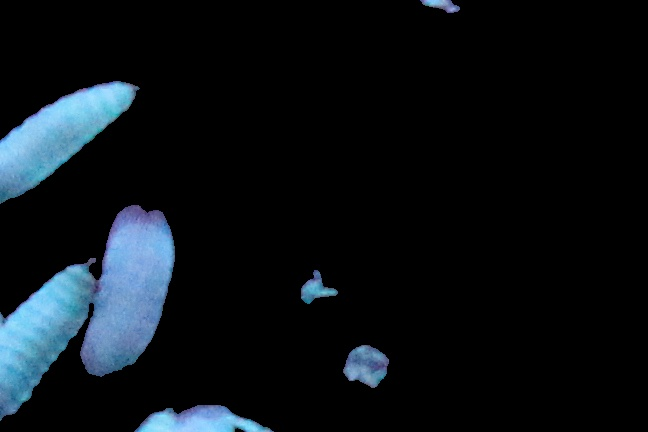larvae: (1, 80, 146, 206), (81, 209, 180, 374), (1, 258, 98, 413)
